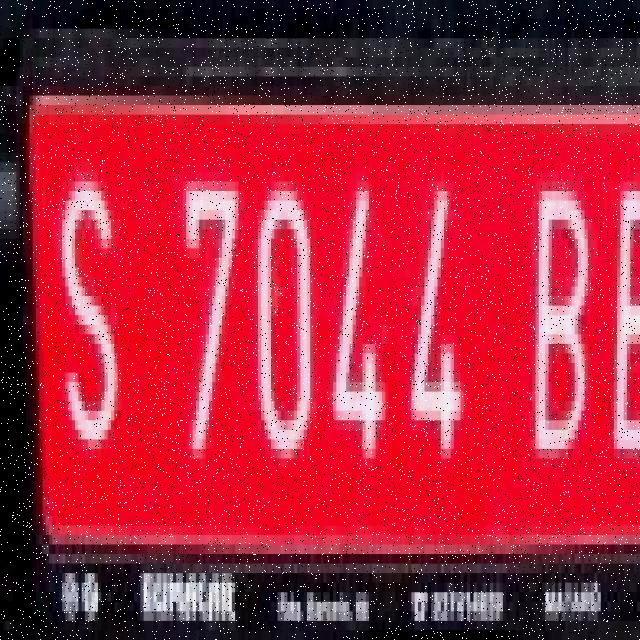licenseplate: (6, 9, 640, 640)
